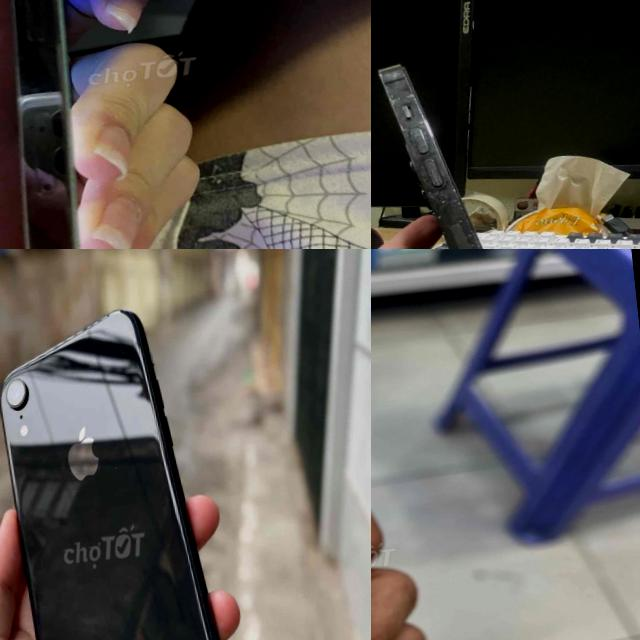gen_12_13: (371, 41, 594, 249), (0, 0, 183, 249)
gen_x_xs: (1, 312, 217, 640)
